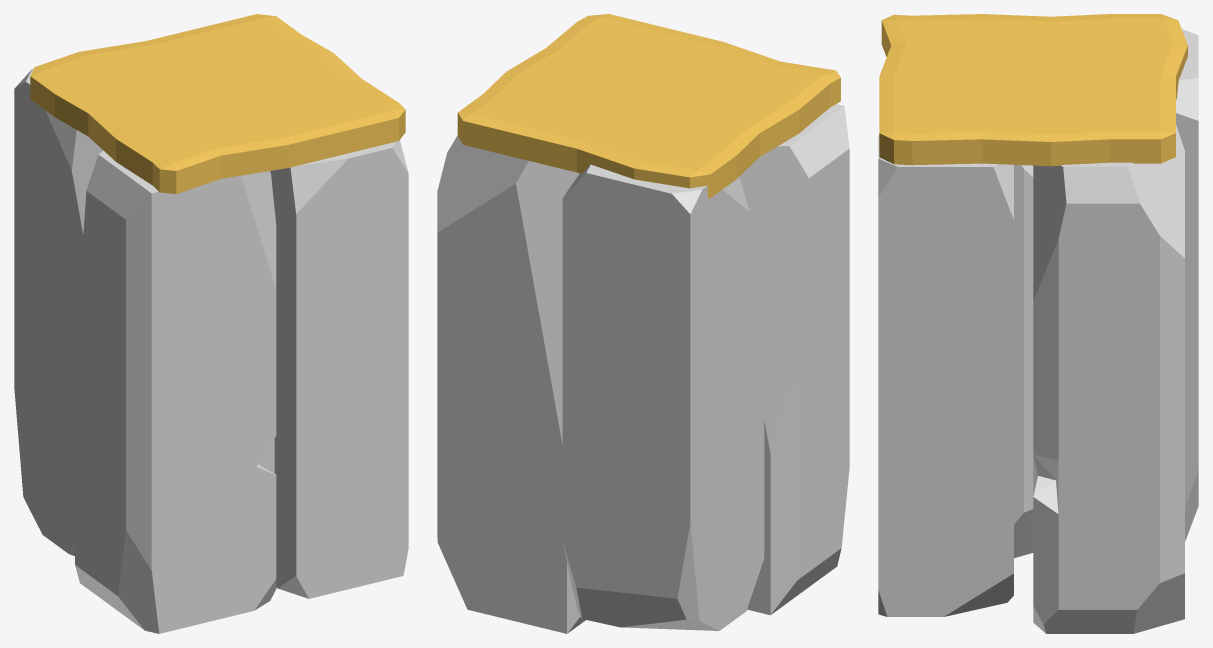
Rendered from Island.gltf.
3 renders of one model, left to right at view 1: azimuth 30°, elevation 25°; view 2: azimuth 150°, elevation 25°; view 3: azimuth 270°, elevation 25°, orthographic. The views are drawn at different scales.
Parts seen in each view (by area): view 1: Cube.001, Cube.013, Cube, Cube.012; view 2: Cube.012, Cube.014, Cube, Cube.001; view 3: Cube.014, Cube.013, Cube, Cube.001, Cube.012.
Part boxes in pixels (<box>): Cube.001: <box>75,150,276,633</box>; Cube.013: <box>270,140,408,598</box>; Cube: <box>30,14,405,194</box>; Cube.012: <box>14,68,103,555</box>; Cube.012: <box>562,164,764,630</box>; Cube.014: <box>437,135,585,633</box>; Cube: <box>457,14,840,198</box>; Cube.001: <box>739,104,849,615</box>; Cube.014: <box>1033,125,1184,633</box>; Cube.013: <box>878,134,1013,616</box>; Cube: <box>879,14,1187,166</box>; Cube.001: <box>1014,164,1033,558</box>; Cube.012: <box>1176,29,1198,541</box>.
Size of the model in its own units: 2.49 by 3.91 by 2.31.
